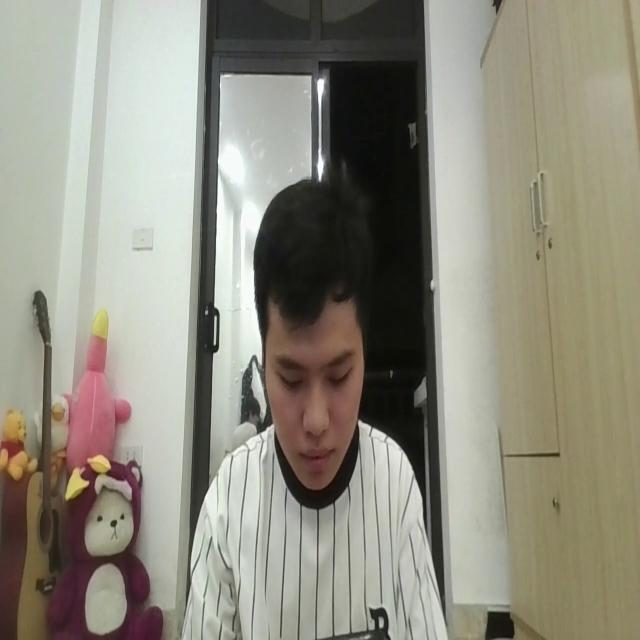student: (182, 175, 450, 640)
